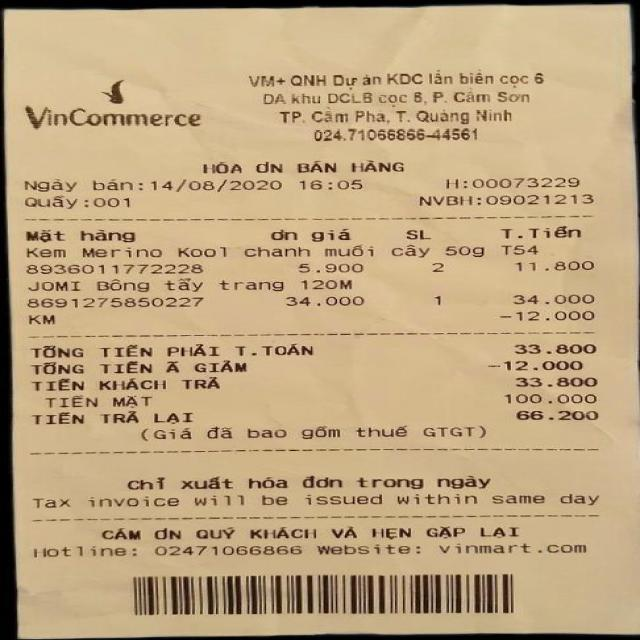Date: (151, 176, 289, 196)
Store_Name: (0, 58, 212, 137)
Total_Amount: (16, 335, 611, 360)
